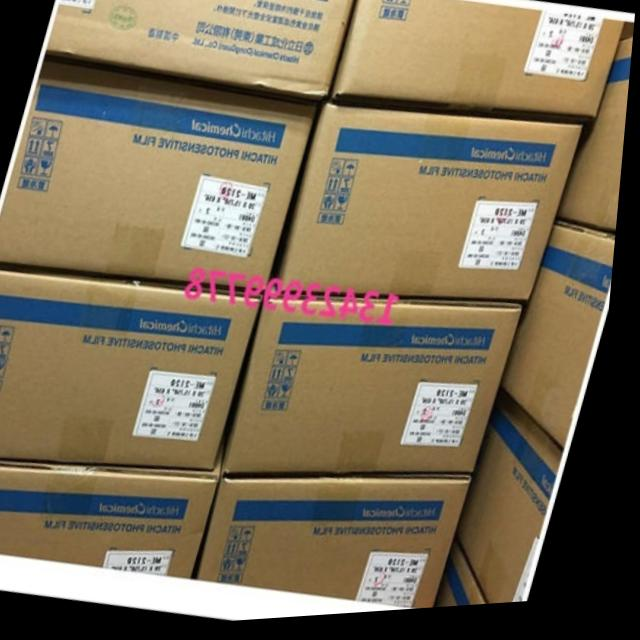box: (0, 58, 322, 298), (279, 106, 585, 309), (0, 268, 266, 472), (234, 302, 526, 481), (333, 0, 625, 135), (207, 477, 482, 615), (43, 0, 356, 106), (0, 450, 230, 582), (509, 230, 620, 463), (468, 389, 573, 611), (560, 47, 634, 246), (442, 540, 498, 614)
